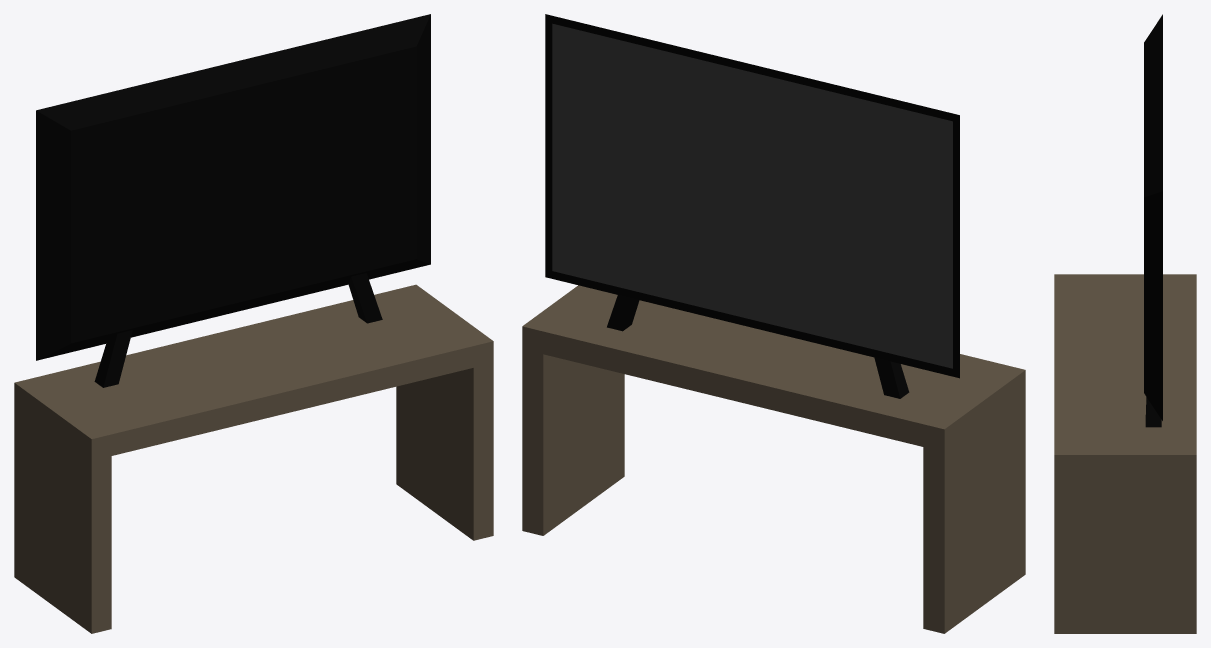
Rendered from OrganizedTV.fbx.
The picture shows the model from 3 angles, left to right: view 1: azimuth 30°, elevation 25°; view 2: azimuth 150°, elevation 25°; view 3: azimuth 270°, elevation 25°; orthographic projection. The views are drawn at different scales.
Parts seen in each view (by area): view 1: OrganizedTV1; view 2: OrganizedTV1; view 3: OrganizedTV1.
Part boxes in pixels (box(x1,y1,x2,y2)): OrganizedTV1: box(14, 14, 493, 633); OrganizedTV1: box(522, 14, 1025, 633); OrganizedTV1: box(1054, 14, 1196, 633).
Bounding box in the file's own units: 1.5 × 1.71 × 0.5.
